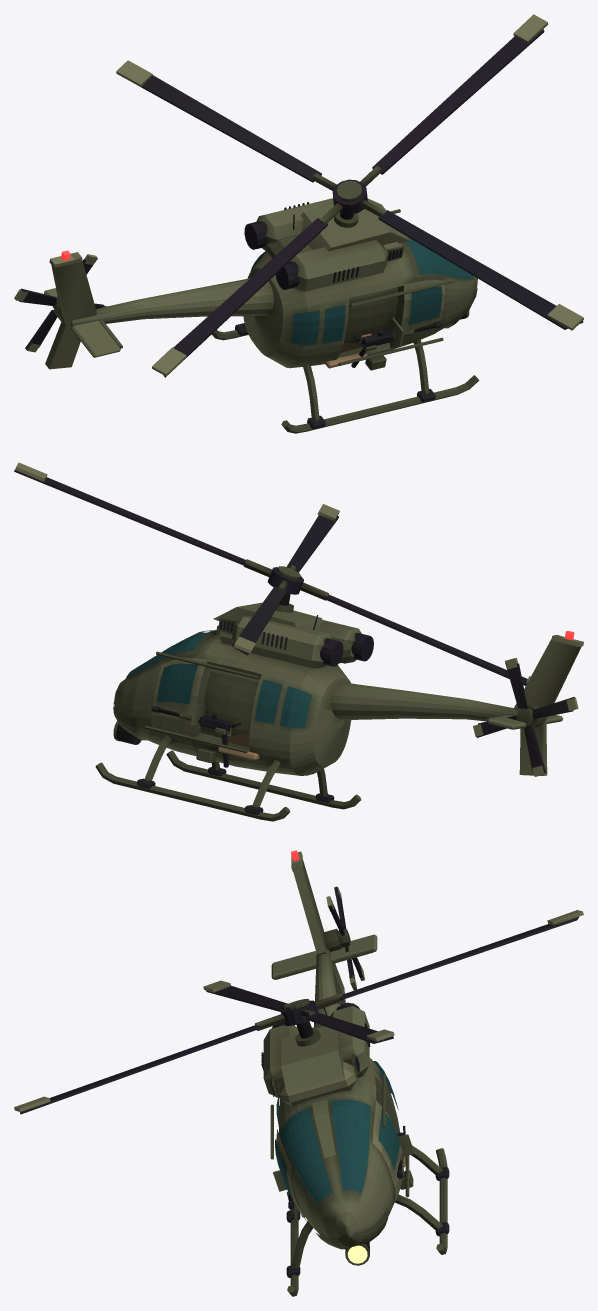
Rendered from prop.l10-crashed-helicopter.glb.
The picture shows the model from 3 angles, top to bottom: view 1: azimuth 30°, elevation 25°; view 2: azimuth 150°, elevation 25°; view 3: azimuth 270°, elevation 25°; orthographic projection. The views are drawn at different scales.
Visible parts, largest first — view 1: body, object 2; view 2: body, object 2; view 3: body, object 2.
Part boxes in pixels (x1,y1,x2,y2): body: (44,198,479,433); object 2: (14,14,583,377); body: (95,593,583,821); object 2: (14,462,578,776); body: (261,851,449,1296); object 2: (14,886,583,1209).
Size of the model in its own units: 10.96 by 5.97 by 9.5.
